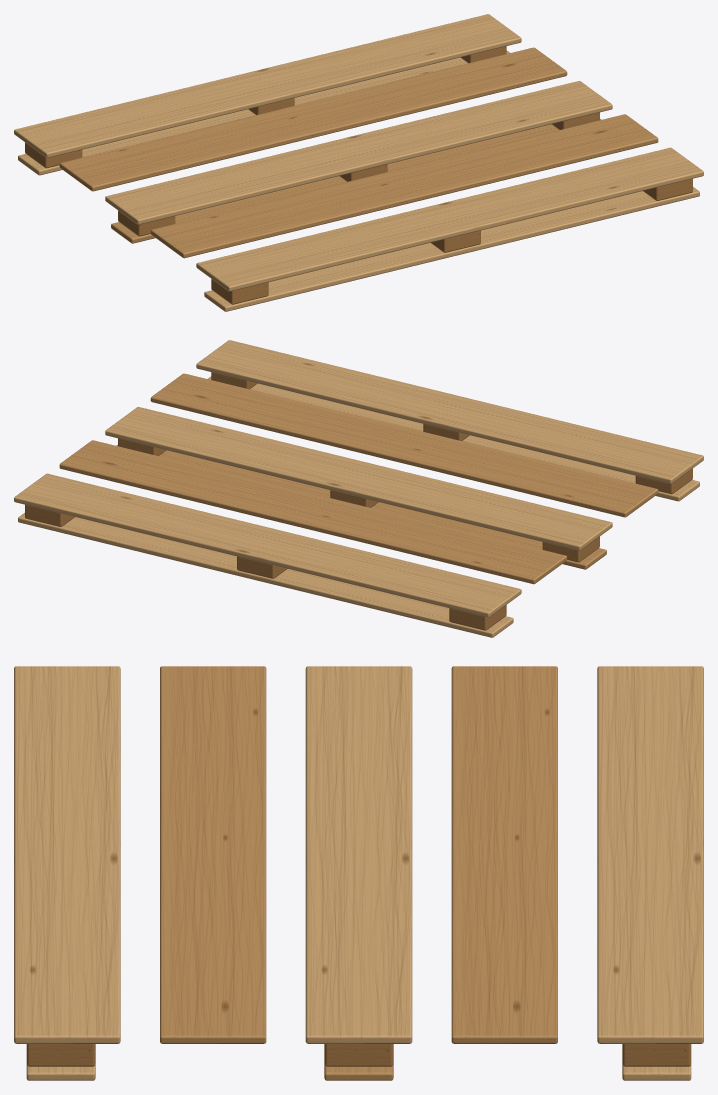
The model's file is palette.glb.
The picture shows the model from 3 angles, top to bottom: view 1: azimuth 30°, elevation 25°; view 2: azimuth 150°, elevation 25°; view 3: azimuth 270°, elevation 25°; orthographic projection. The views are drawn at different scales.
Parts seen in each view (by area): view 1: palette_planche, palette_planche_b, palette_de; view 2: palette_planche, palette_planche_b, palette_de; view 3: palette_planche, palette_planche_b, palette_de.
Boxes of the visible parts, x1,y1,x2,y2 form: palette_planche: [14, 14, 703, 311]; palette_planche_b: [59, 47, 658, 258]; palette_de: [25, 46, 692, 304]; palette_planche: [14, 340, 703, 637]; palette_planche_b: [59, 373, 658, 584]; palette_de: [25, 372, 692, 630]; palette_planche: [14, 666, 703, 1080]; palette_planche_b: [160, 666, 557, 1080]; palette_de: [26, 1044, 691, 1066].
Size of the model in its own units: 2.8 by 0.16 by 2.2.
Materials: 3 (3 with a texture image).
